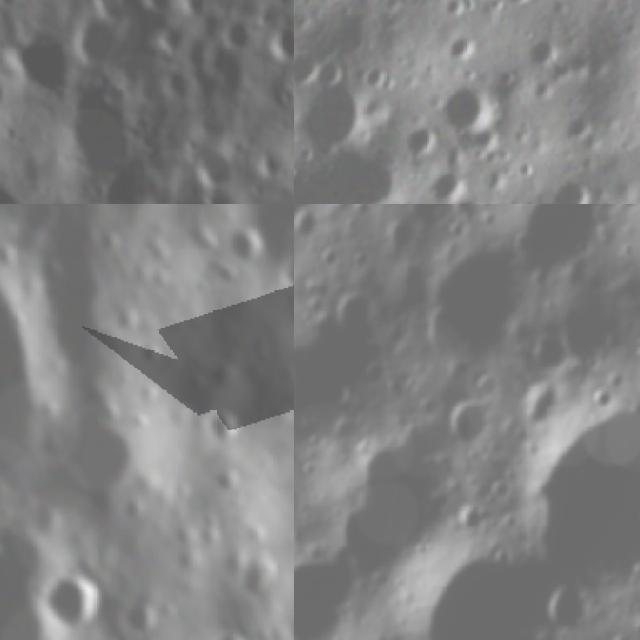crater: (502, 365, 640, 612), (18, 384, 180, 553), (399, 527, 573, 640), (401, 235, 526, 378), (487, 204, 621, 290), (294, 53, 390, 170), (294, 116, 419, 204), (294, 528, 376, 640), (54, 78, 137, 178), (426, 68, 509, 152), (32, 564, 110, 640), (0, 21, 77, 90), (536, 569, 602, 640), (324, 280, 389, 350), (185, 397, 253, 457), (199, 35, 252, 109), (442, 392, 500, 453), (59, 11, 121, 66), (536, 162, 613, 204), (459, 116, 515, 171), (305, 46, 361, 101), (520, 328, 575, 383), (434, 23, 488, 77), (228, 552, 276, 610), (517, 31, 569, 84), (352, 56, 403, 107), (189, 142, 241, 192), (112, 594, 168, 640), (87, 159, 143, 204), (262, 241, 294, 318), (294, 40, 333, 103), (220, 219, 267, 271), (554, 105, 601, 152), (447, 494, 492, 542), (85, 218, 124, 262), (429, 0, 478, 35), (264, 14, 294, 71), (294, 204, 328, 248), (150, 182, 216, 204), (133, 335, 170, 370), (492, 0, 546, 21), (110, 300, 142, 334), (203, 621, 257, 640), (173, 0, 206, 25), (143, 0, 177, 24), (446, 190, 494, 204), (596, 627, 640, 640), (480, 192, 522, 204)
